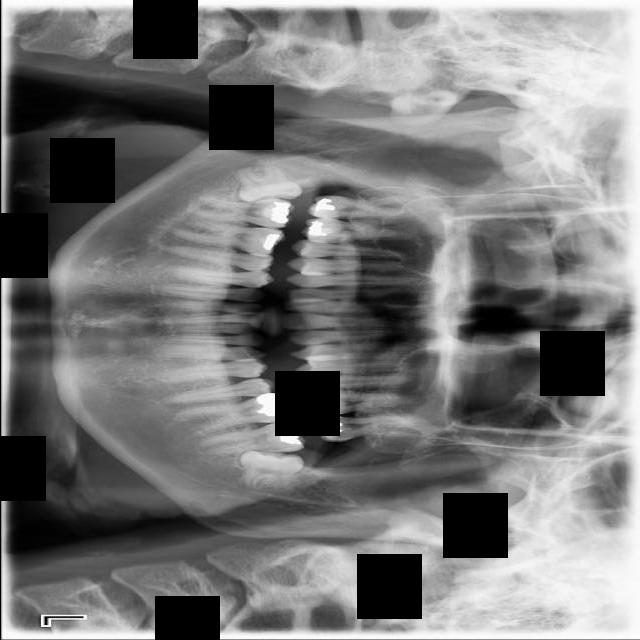52: (240, 386, 295, 433), (256, 416, 307, 459), (244, 194, 294, 230), (233, 227, 286, 257), (310, 415, 359, 443), (306, 194, 354, 221), (306, 387, 350, 416), (300, 216, 345, 244)
73: (78, 602, 90, 609)
BioHorizons Implant: (311, 415, 424, 442)
Biomet 3i Implant: (239, 449, 303, 492)
Blue Sky Bio Implant: (196, 420, 305, 457)
Caries: (306, 195, 424, 220)
Implant: (191, 187, 295, 232)
Keystone Dental Implant: (236, 163, 303, 205)
